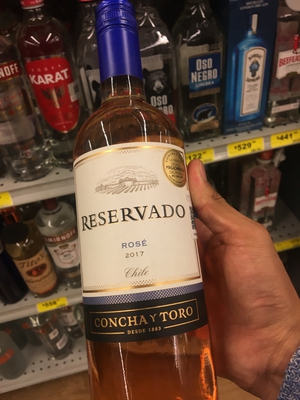reservado rose: (69, 5, 209, 400)
